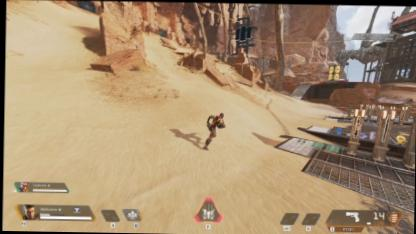Target: (201, 112, 224, 148)
